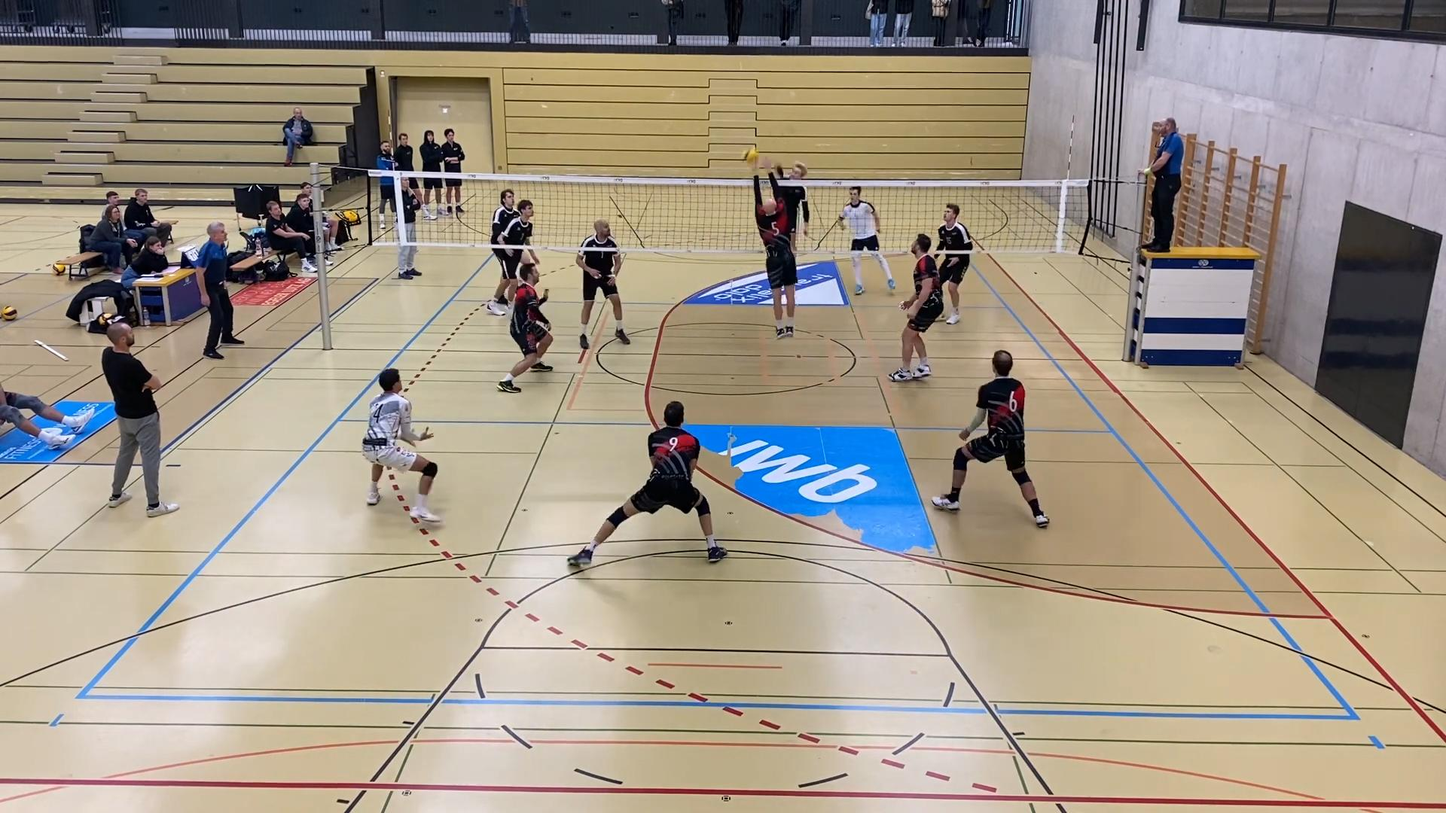attacco: (766, 151, 812, 243)
muro: (747, 160, 801, 338)
